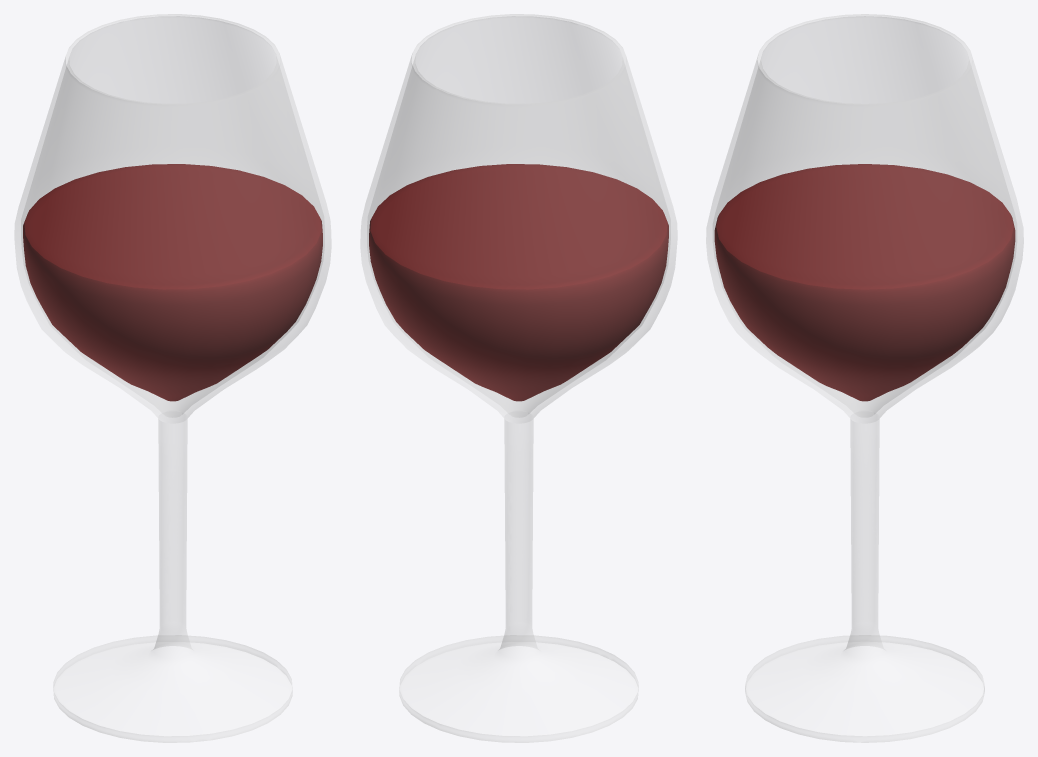
The model's file is red_wine_glass.glb.
3 views of the same model, side by side, from view 1: azimuth 30°, elevation 25°; view 2: azimuth 150°, elevation 25°; view 3: azimuth 270°, elevation 25° (orthographic).
Parts seen in each view (by area): view 1: WineGlassMerged; view 2: WineGlassMerged; view 3: WineGlassMerged.
Part boxes in pixels (x1,y1,x2,y2): WineGlassMerged: (14,14,331,742); WineGlassMerged: (360,14,677,742); WineGlassMerged: (706,14,1023,742).
Bounding box in the file's own units: 0.0836 × 0.1836 × 0.0836.
1 material, 1 textured.
